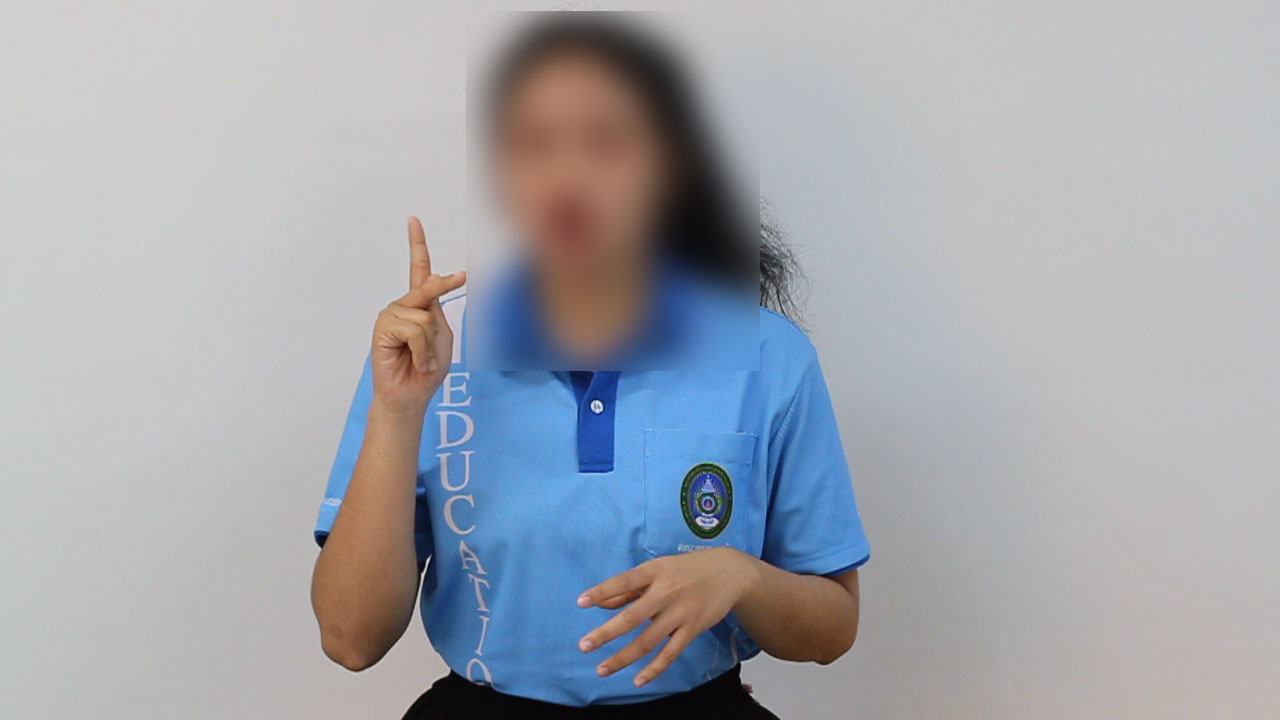ko: (318, 190, 498, 436)
